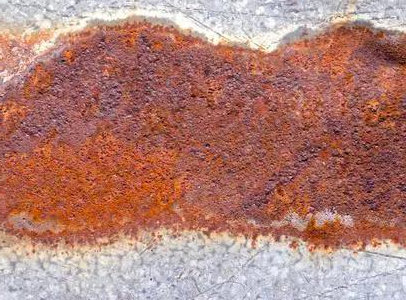Corrosion: (1, 15, 406, 256)
